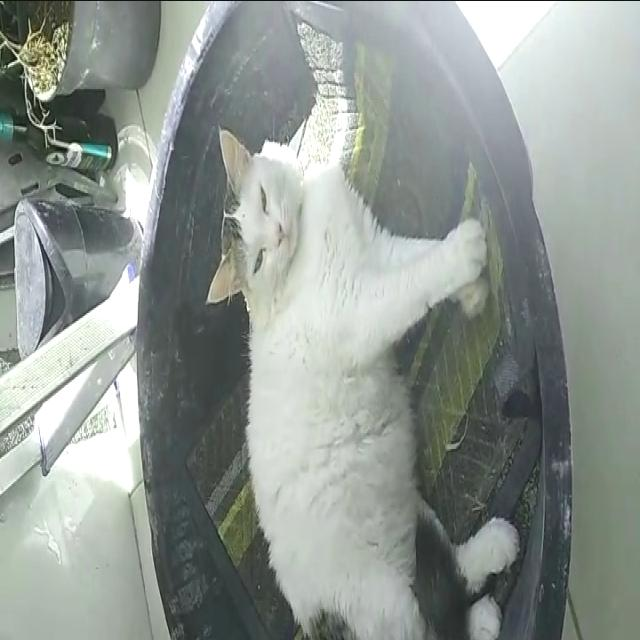Simba: (178, 104, 550, 634)
